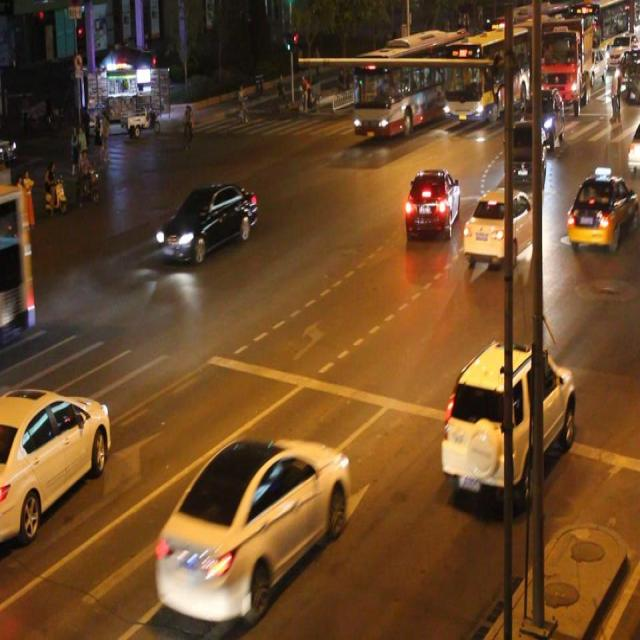car: (154, 433, 348, 618), (441, 342, 572, 488), (0, 386, 110, 540), (155, 180, 257, 264), (461, 186, 538, 262), (566, 172, 640, 246), (403, 167, 460, 240), (502, 120, 544, 187)
van: (354, 32, 467, 134)
